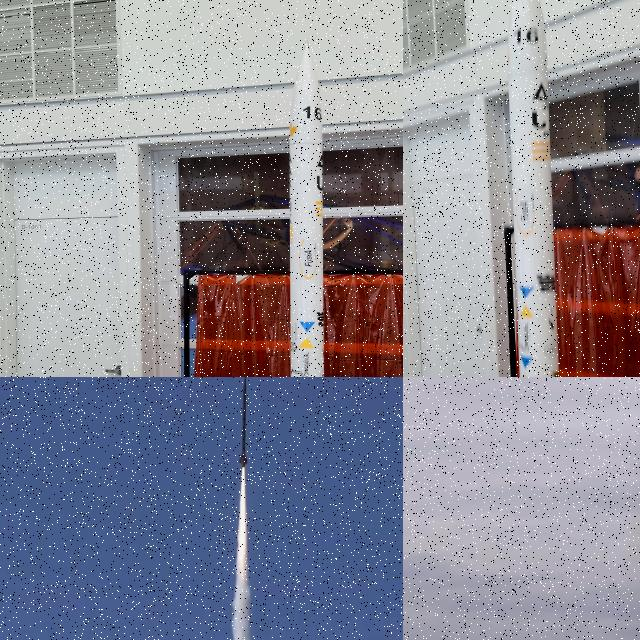Rocket: (508, 0, 559, 377), (290, 37, 324, 377), (238, 377, 247, 467)
